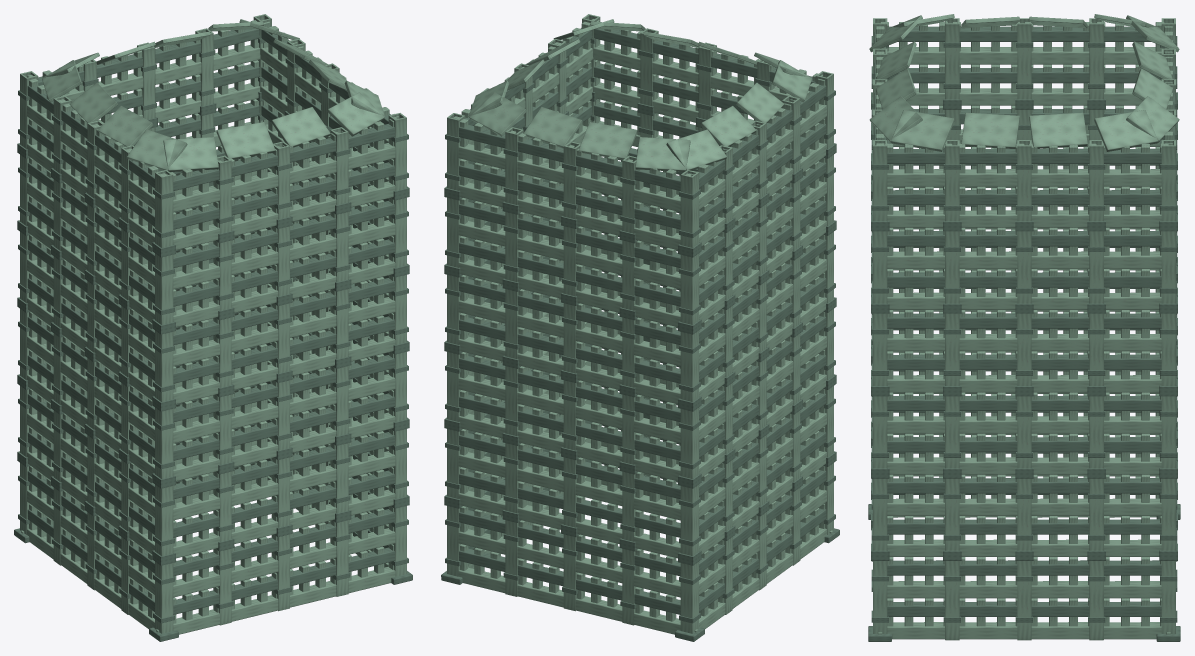
3 views of the same model, side by side, from view 1: azimuth 30°, elevation 25°; view 2: azimuth 150°, elevation 25°; view 3: azimuth 270°, elevation 25° (orthographic). The views are drawn at different scales.
Visible parts, largest first — view 1: Crown alloy petal 0-1, Crown alloy petal 0-0, Crown alloy petal 0-2, Crown alloy petal 3-3, Crown alloy petal 3-2, Tier 5 side 0 post 0, Crown alloy petal 0-3, Tier 0 side 0 post 0, Tier 3 side 0 post 0, Tier 2 side 0 post 0, Tier 4 side 0 post 0, Tier 1 side 0 post 0 (+143 smaller); view 2: Crown alloy petal 2-2, Crown alloy petal 2-3, Crown alloy petal 2-1, Crown alloy petal 3-0, Crown alloy petal 3-1, Tier 5 side 3 post 0, Crown alloy petal 2-0, Tier 0 side 3 post 0, Tier 2 side 3 post 0, Tier 3 side 3 post 0, Tier 4 side 3 post 0, Tier 1 side 3 post 0 (+144 smaller); view 3: Crown alloy petal 1-2, Crown alloy petal 1-1, Crown alloy petal 1-3, Crown alloy petal 1-0, Crown alloy petal 0-3, Crown alloy petal 2-0, Tier 5 side 1 post 2, Tier 5 side 1 post 1, Tier 5 side 1 post 3, Tier 5 side 1 post 0, Tier 5 side 2 post 0, Tier 0 side 1 post 1 (+147 smaller).
Boxes of the visible parts, x1,y1,x2,y2 form: Crown alloy petal 0-1: [216, 122, 275, 159]; Crown alloy petal 0-0: [163, 137, 218, 171]; Crown alloy petal 0-2: [271, 107, 330, 147]; Crown alloy petal 3-3: [127, 129, 187, 170]; Crown alloy petal 3-2: [97, 106, 153, 146]; Tier 5 side 0 post 0: [155, 170, 173, 247]; Crown alloy petal 0-3: [327, 92, 384, 136]; Tier 0 side 0 post 0: [155, 562, 173, 633]; Tier 3 side 0 post 0: [155, 330, 173, 401]; Tier 2 side 0 post 0: [155, 407, 173, 478]; Tier 4 side 0 post 0: [155, 253, 173, 324]; Tier 1 side 0 post 0: [155, 484, 173, 555]; Crown alloy petal 2-2: [578, 122, 637, 159]; Crown alloy petal 2-3: [635, 137, 690, 171]; Crown alloy petal 2-1: [523, 107, 582, 148]; Crown alloy petal 3-0: [666, 129, 726, 170]; Crown alloy petal 3-1: [700, 106, 756, 146]; Tier 5 side 3 post 0: [680, 170, 698, 247]; Crown alloy petal 2-0: [469, 92, 526, 136]; Tier 0 side 3 post 0: [680, 562, 698, 633]; Tier 2 side 3 post 0: [680, 407, 698, 478]; Tier 3 side 3 post 0: [680, 330, 698, 401]; Tier 4 side 3 post 0: [680, 253, 698, 324]; Tier 1 side 3 post 0: [680, 484, 698, 555]; Crown alloy petal 1-2: [1029, 112, 1087, 148]; Crown alloy petal 1-1: [961, 112, 1019, 148]; Crown alloy petal 1-3: [1094, 110, 1157, 151]; Crown alloy petal 1-0: [891, 110, 954, 151]; Crown alloy petal 0-3: [869, 96, 922, 142]; Crown alloy petal 2-0: [1126, 96, 1179, 142]; Tier 5 side 1 post 2: [1017, 140, 1031, 221]; Tier 5 side 1 post 1: [945, 140, 959, 221]; Tier 5 side 1 post 3: [1089, 140, 1103, 221]; Tier 5 side 1 post 0: [873, 140, 887, 221]; Tier 5 side 2 post 0: [1161, 140, 1175, 221]; Tier 0 side 1 post 1: [945, 561, 959, 640].
Bounding box in the file's own units: 1.95 × 3.51 × 1.95.
2 materials, 2 textured.
